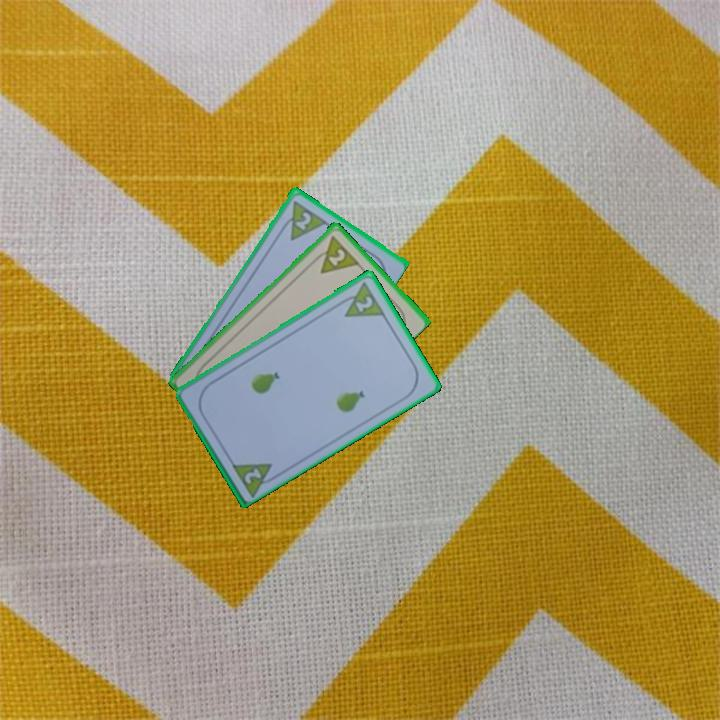2p: (308, 231, 361, 276), (291, 208, 314, 233), (351, 292, 376, 315), (241, 464, 265, 487)
